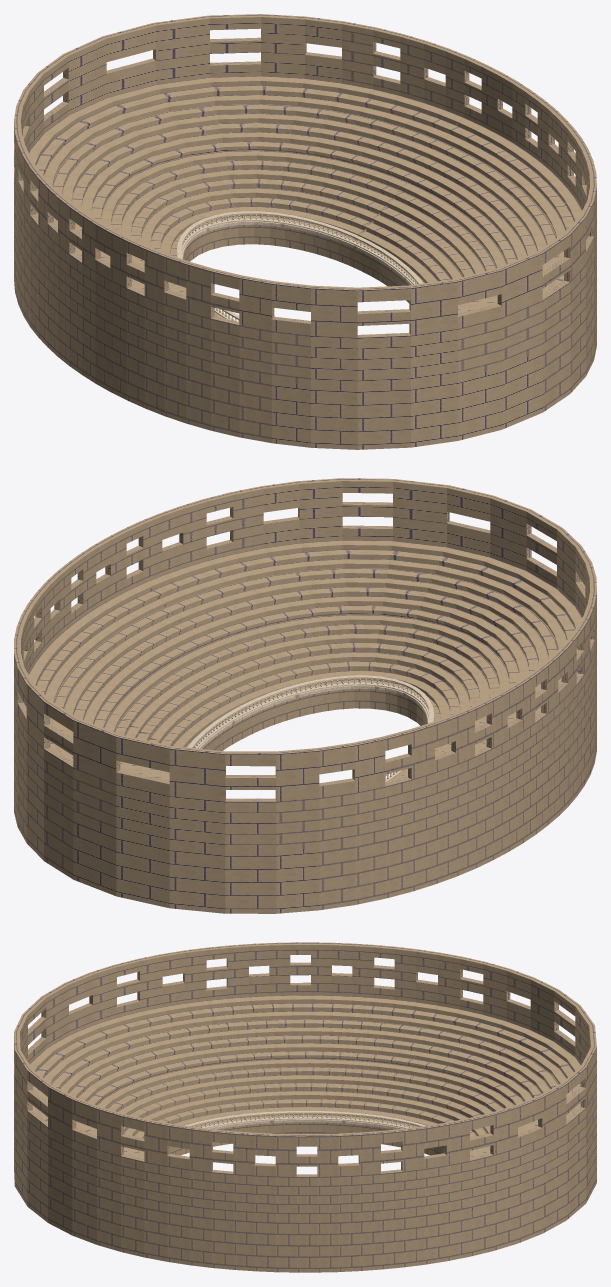
The model's file is Stadium.fbx.
3 views of the same model, one above another, from view 1: azimuth 30°, elevation 25°; view 2: azimuth 150°, elevation 25°; view 3: azimuth 270°, elevation 25° (orthographic). The views are drawn at different scales.
Visible parts, largest first — view 1: Cube.012, Cube.036, Cube.132, Cube.018; view 2: Cube.012, Cube.036, Cube.132, Cube.018; view 3: Cube.012, Cube.036, Cube.132.
Boxes of the visible parts, x1,y1,x2,y2 form: Cube.012: (14, 14, 596, 449); Cube.036: (349, 57, 581, 303); Cube.132: (177, 211, 352, 321); Cube.018: (350, 233, 423, 284); Cube.012: (14, 478, 596, 913); Cube.036: (28, 522, 259, 750); Cube.132: (258, 675, 434, 782); Cube.018: (187, 697, 260, 748); Cube.012: (14, 942, 596, 1267); Cube.036: (211, 1129, 402, 1272); Cube.132: (185, 1111, 425, 1128).
Bounding box in the file's own units: 375 × 123 × 476.
